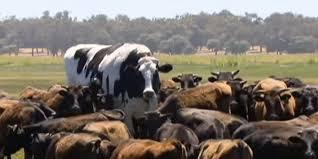cow: (63, 43, 173, 104), (0, 108, 127, 159), (144, 83, 232, 117), (144, 110, 200, 159), (29, 130, 102, 159), (250, 77, 296, 122), (94, 138, 188, 159), (77, 120, 134, 145), (191, 138, 254, 159), (296, 124, 318, 159), (297, 86, 318, 115), (171, 73, 203, 90), (207, 69, 243, 83)
